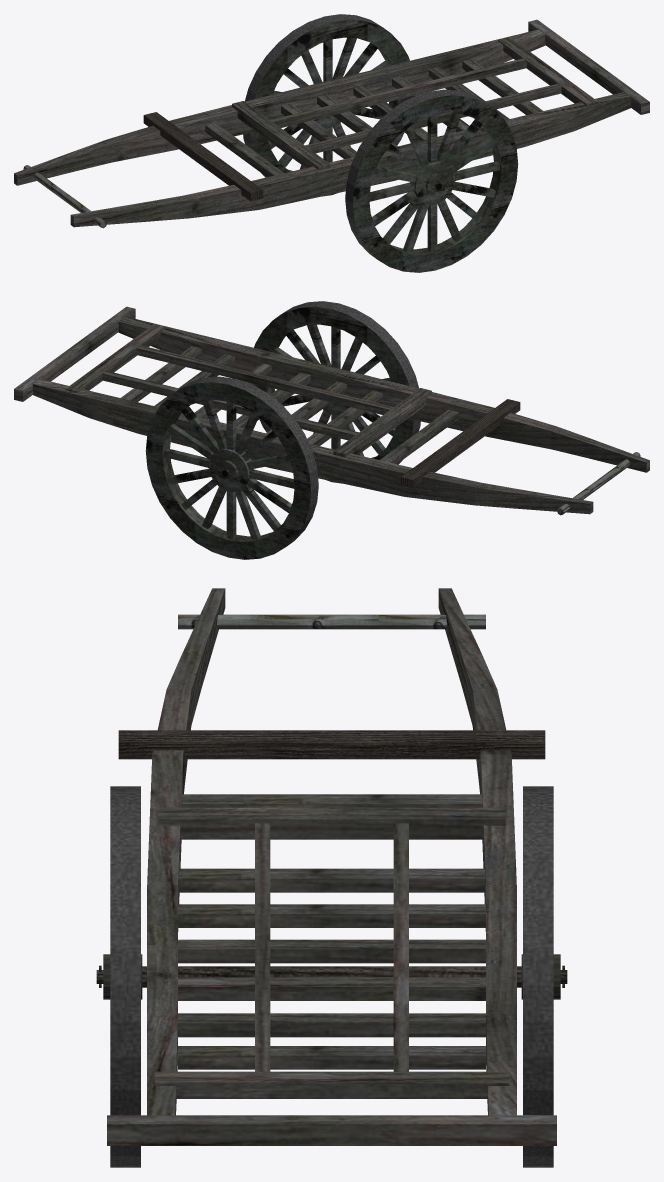
The model's file is pp_daihachi.glb.
3 views of the same model, one above another, from view 1: azimuth 30°, elevation 25°; view 2: azimuth 150°, elevation 25°; view 3: azimuth 270°, elevation 25° (orthographic). The views are drawn at different scales.
Visible parts, largest first — view 1: pp_daihachi-0; view 2: pp_daihachi-0; view 3: pp_daihachi-0.
Part boxes in pixels (x1=…): pp_daihachi-0: x1=14, y1=14, x2=649, y2=272; pp_daihachi-0: x1=14, y1=301, x2=649, y2=559; pp_daihachi-0: x1=96, y1=588, x2=567, y2=1167.
Size of the model in its own units: 3.99 by 1.2 by 1.48.
1 material, 1 textured.
